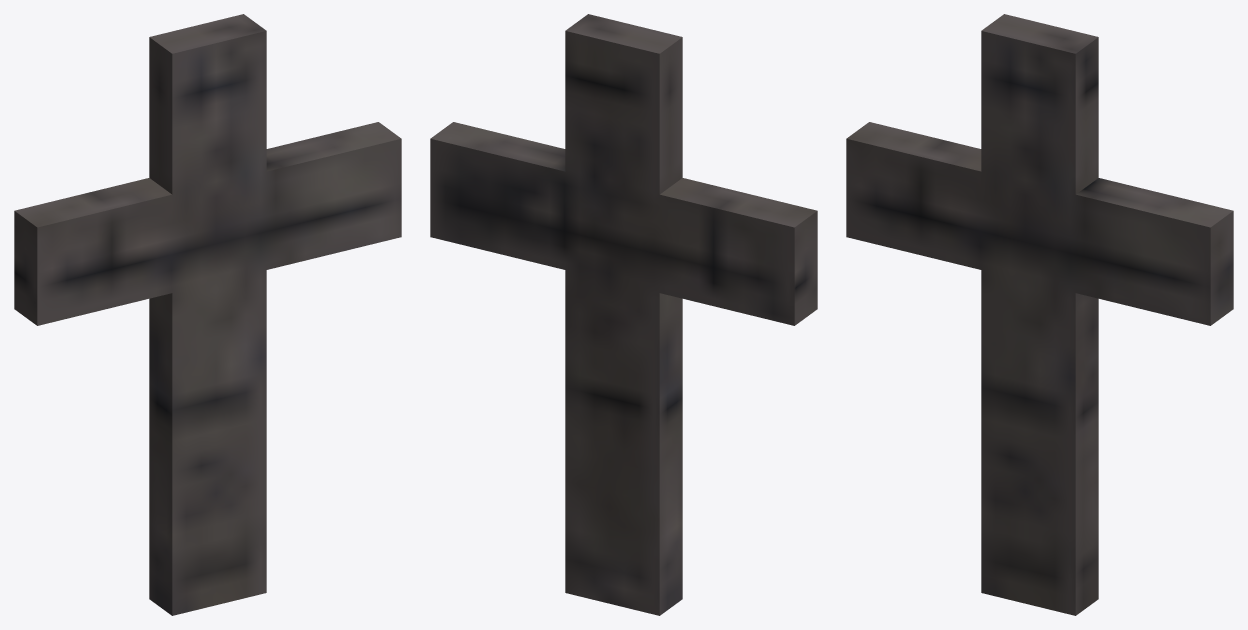
File: tombstone cross.fbx
3 renders of one model, left to right at view 1: azimuth 30°, elevation 25°; view 2: azimuth 150°, elevation 25°; view 3: azimuth 330°, elevation 25°, orthographic.
Visible parts, largest first — view 1: Cube.008; view 2: Cube.008; view 3: Cube.008.
Part boxes in pixels (bbox=[...]): Cube.008: bbox=[14, 14, 401, 615]; Cube.008: bbox=[430, 14, 817, 615]; Cube.008: bbox=[846, 14, 1233, 615].
Bounding box in the file's own units: 67.58 × 99.66 × 7.39.
